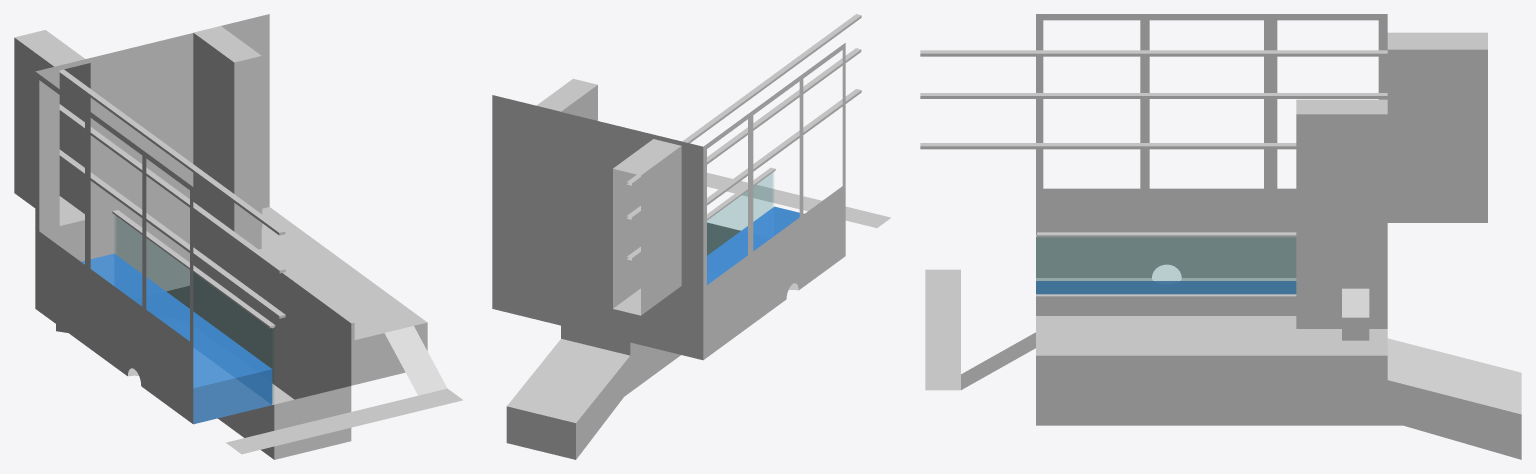
The model's file is Fingars SideRoom modell.dae.
The picture shows the model from 3 angles, left to right: view 1: azimuth 30°, elevation 25°; view 2: azimuth 150°, elevation 25°; view 3: azimuth 270°, elevation 25°; orthographic projection. The views are drawn at different scales.
Parts seen in each view (by area): view 1: SketchUp (×7); view 2: SketchUp (×7); view 3: SketchUp (×7).
Boxes of the visible parts, left/top/right/bottom form: SketchUp (×7): left=14, top=14, right=462, bottom=459; SketchUp (×7): left=492, top=14, right=890, bottom=459; SketchUp (×7): left=920, top=14, right=1521, bottom=459.
Bounding box in the file's own units: 138 × 274 × 181.
